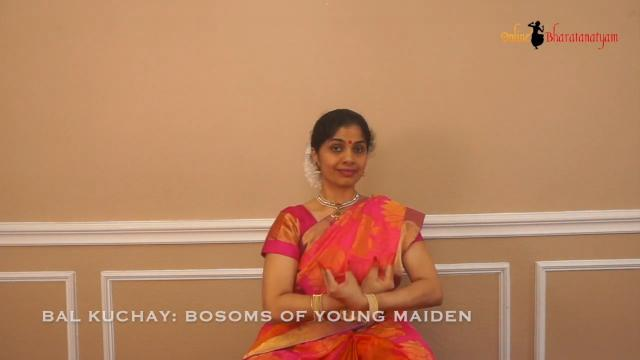kangul: (342, 237, 402, 303), (308, 241, 358, 306)
